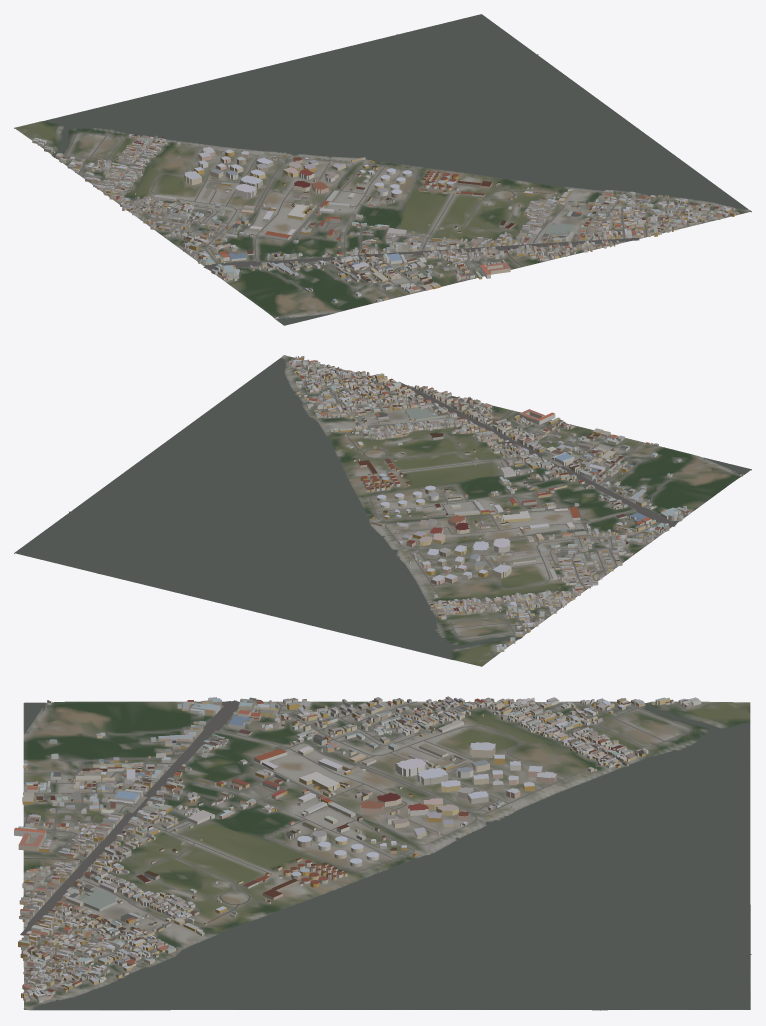
3 renders of one model, top to bottom at view 1: azimuth 30°, elevation 25°; view 2: azimuth 150°, elevation 25°; view 3: azimuth 270°, elevation 25°, orthographic. The views are drawn at different scales.
Visible parts, largest first — view 1: water, ground, buildings, roads; view 2: water, ground, buildings, roads; view 3: water, ground, buildings, roads.
Part boxes in pixels (bbox=[...]): water: bbox=[45, 14, 747, 325]; ground: bbox=[14, 15, 751, 325]; buildings: bbox=[32, 134, 738, 319]; roads: bbox=[41, 132, 750, 298]; water: bbox=[15, 357, 750, 659]; ground: bbox=[14, 355, 751, 666]; buildings: bbox=[289, 356, 743, 651]; roads: bbox=[282, 355, 678, 652]; water: bbox=[24, 702, 751, 1010]; ground: bbox=[23, 701, 750, 1010]; buildings: bbox=[14, 696, 701, 1002]; roads: bbox=[20, 700, 703, 1009].
Size of the model in its own units: 1416 by 21.68 by 1422.
